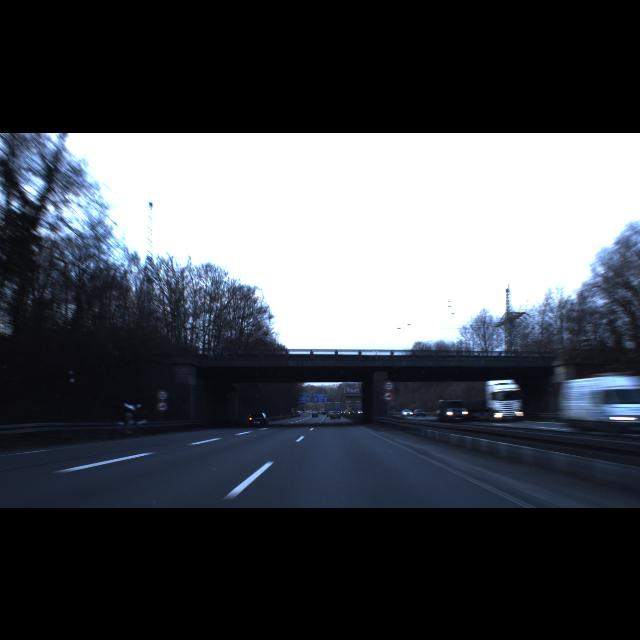prohibitory: (156, 401, 168, 412), (156, 390, 168, 400), (384, 391, 394, 402), (384, 380, 394, 390)
